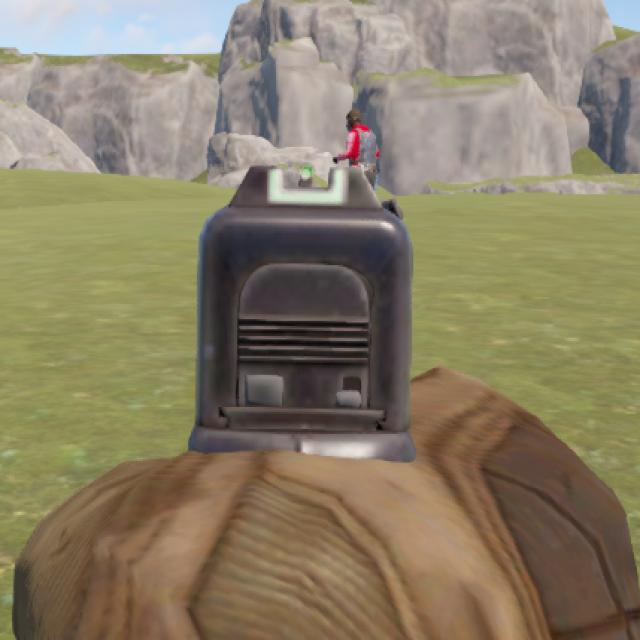Player: (334, 109, 380, 166)
